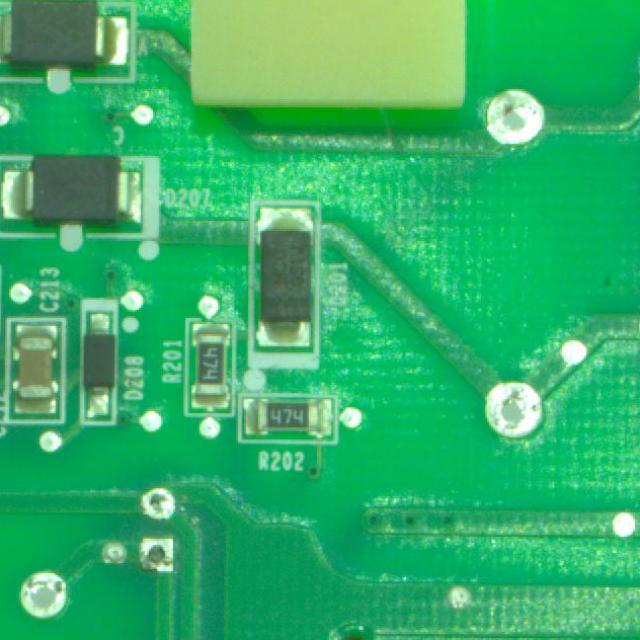Insufficient solder: (479, 374, 552, 442), (480, 86, 556, 144), (18, 566, 71, 623), (140, 483, 180, 524), (138, 536, 176, 578)
